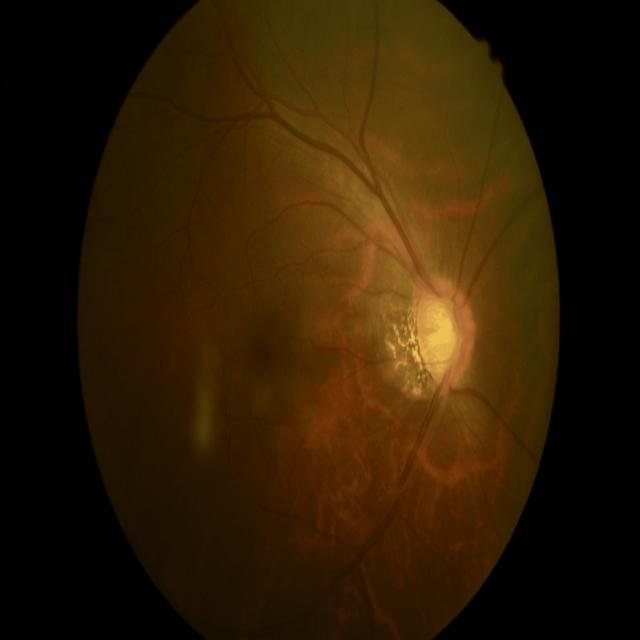cup: (416, 293, 464, 378)
disk: (413, 278, 475, 388)
